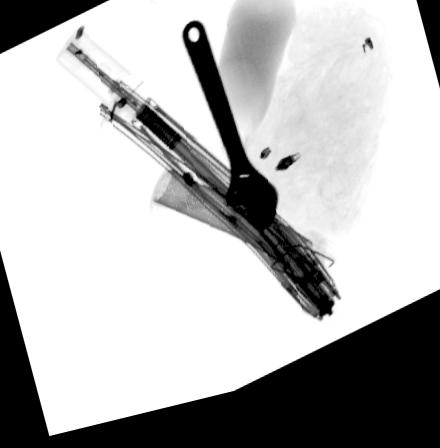Wrench: (181, 28, 279, 244)
